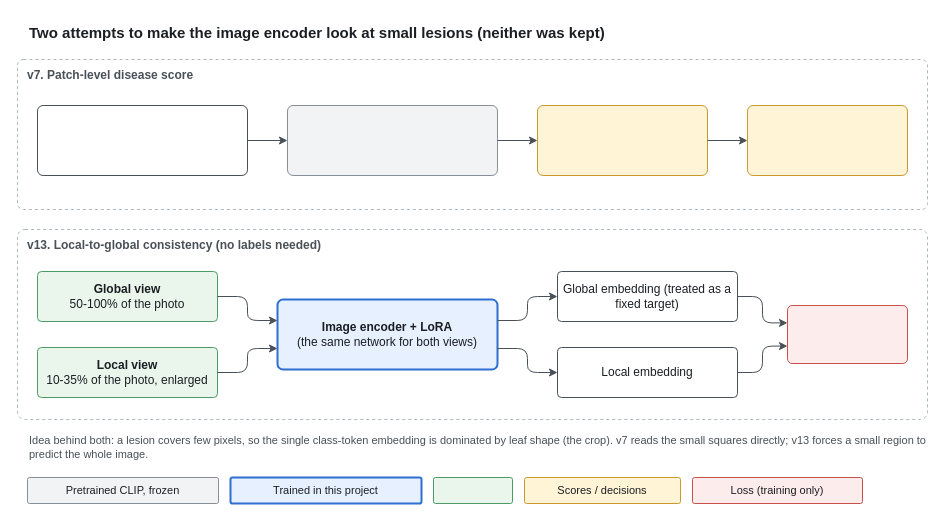
Image size: 945x521. Some labels were removed from this diagram. Each missing label, with the centre of its shape:
"196 patch outputs of the last block (one per 16 x 16 pixel square)" goes at (x=142, y=140).
"Data in" goes at (x=472, y=490).
"Loss = 1 - cosine(local, global)" goes at (x=847, y=334).
"Pair score = class-token cosine + 1.0 x patch score of its disease" goes at (x=827, y=140).
"Patch score of a disease = mean of its 8 best patches" goes at (x=622, y=140).
"Project each patch to 512 numbers, cosine with every disease text embedding" goes at (x=392, y=140).
